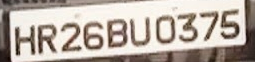0: (155, 14, 177, 46)
2: (60, 23, 83, 54)
3: (176, 12, 199, 43)
5: (220, 8, 241, 40)
6: (83, 21, 105, 51)
7: (199, 11, 219, 42)
B: (106, 18, 129, 49)
H: (13, 25, 37, 58)
R: (37, 23, 58, 54)
U: (129, 16, 152, 49)
